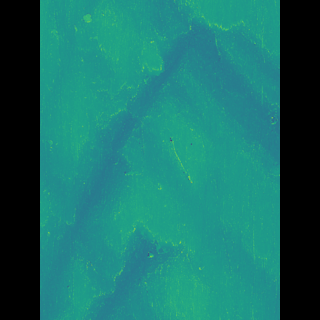Loch: (100, 29, 187, 218), (168, 0, 249, 188), (99, 226, 219, 320)
